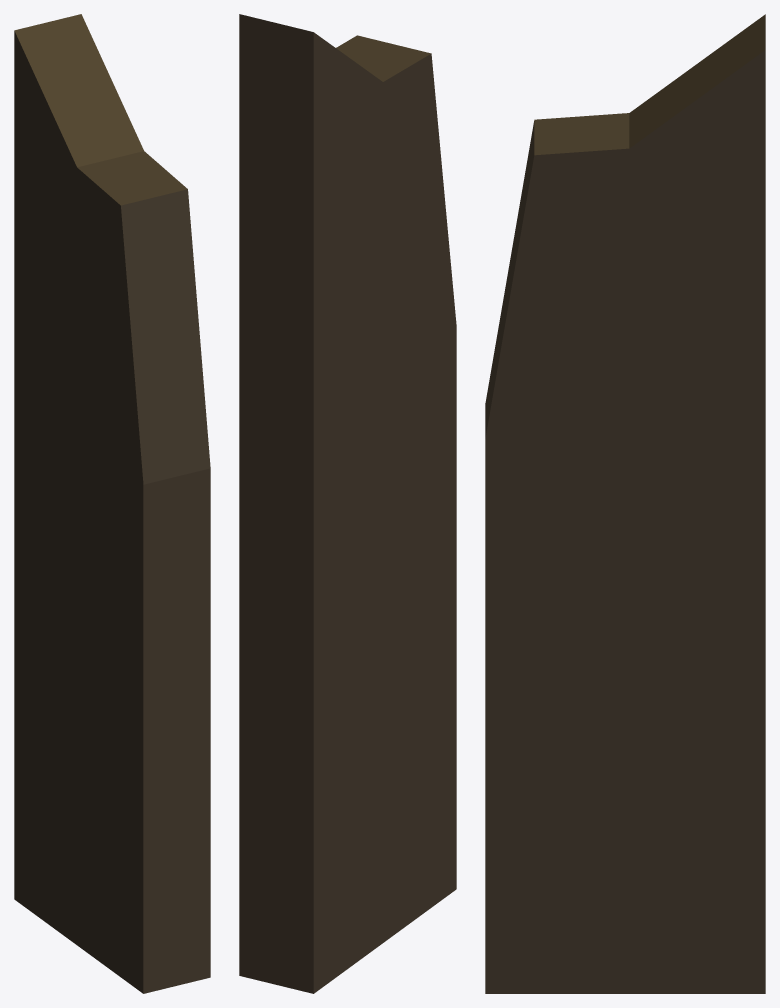
File: ADDON_DUNGEON_BROKENSTONE_01.OBJ
3 renders of one model, left to right at view 1: azimuth 30°, elevation 25°; view 2: azimuth 150°, elevation 25°; view 3: azimuth 270°, elevation 25°, orthographic. The views are drawn at different scales.
Visible parts, largest first — view 1: ADDON_DUNGEON_BROKENSTONE_01; view 2: ADDON_DUNGEON_BROKENSTONE_01; view 3: ADDON_DUNGEON_BROKENSTONE_01.
Part boxes in pixels (left/top/right/bottom): ADDON_DUNGEON_BROKENSTONE_01: left=14, top=14, right=210, bottom=993; ADDON_DUNGEON_BROKENSTONE_01: left=239, top=14, right=456, bottom=993; ADDON_DUNGEON_BROKENSTONE_01: left=485, top=14, right=765, bottom=993.
Size of the model in its own units: 0.1895 by 2.34 by 0.6312.
